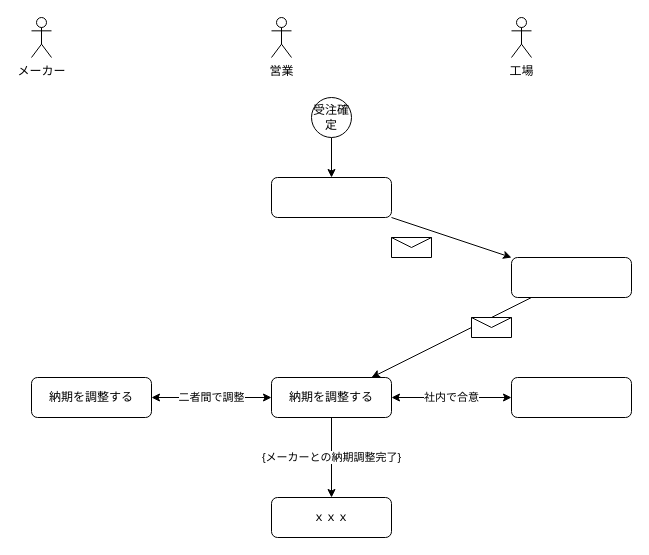
The diagram is 649 pixels wide and 555 high, and some of its shapes have lost their labels. The centre of each missing label's shape, as x and y in pixels:
"注連を発行する" belongs at point (331, 197).
"納期の合意" belongs at point (571, 397).
"納期を登録する" belongs at point (571, 277).
